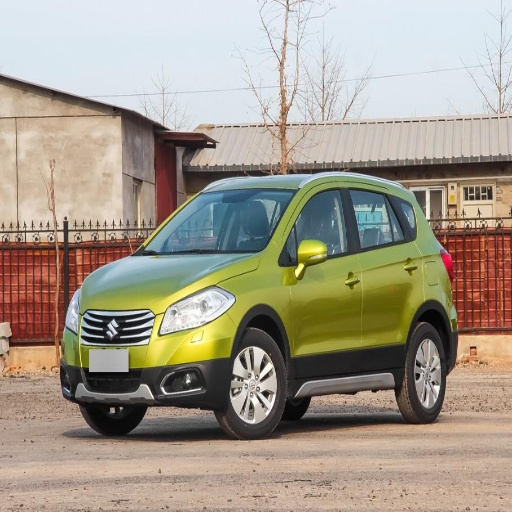back_left_door: (346, 184, 423, 358)
front_bumper: (64, 302, 240, 406)
front_glass: (137, 188, 296, 254)
front_left_door: (281, 183, 362, 375)
